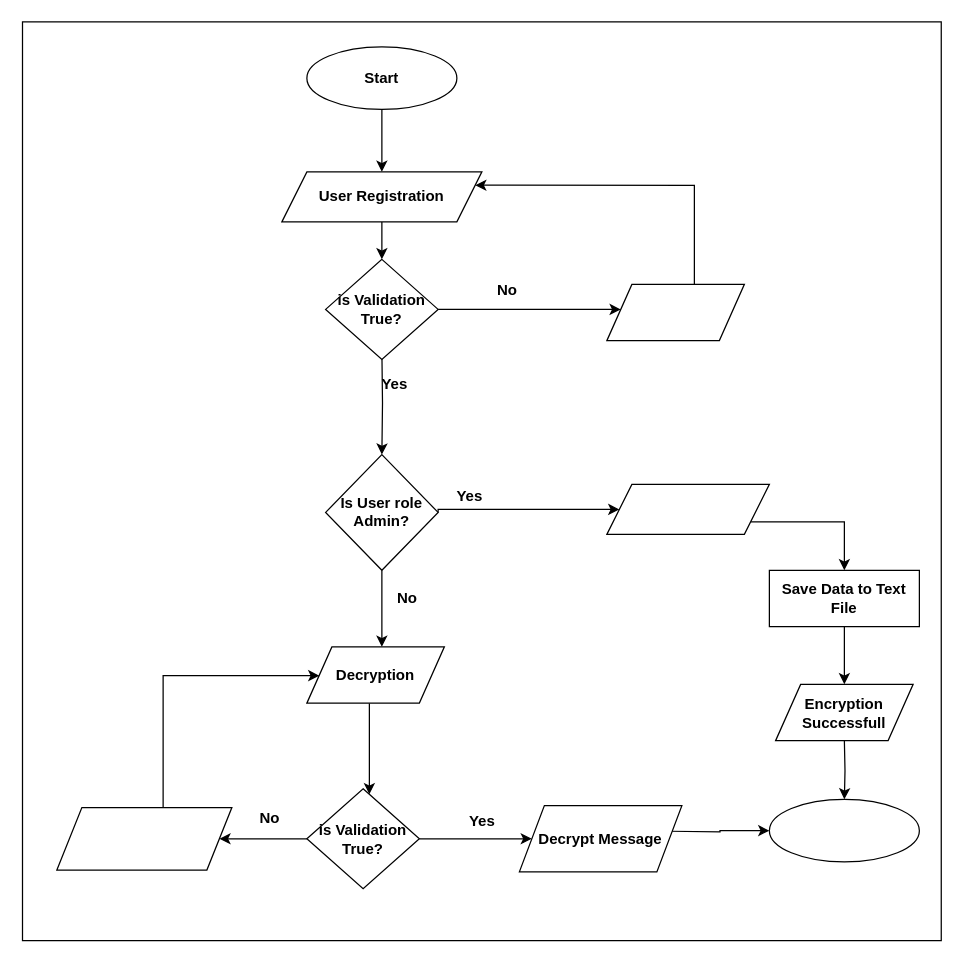
This 963x963 diagram has some shape labels left out. Each missing label, with the box of its shape:
Encrypt Message: (606, 483, 769, 534)
End: (768, 798, 919, 862)
Login Fail: (606, 283, 744, 341)
unauthorized Login: (56, 806, 232, 870)
